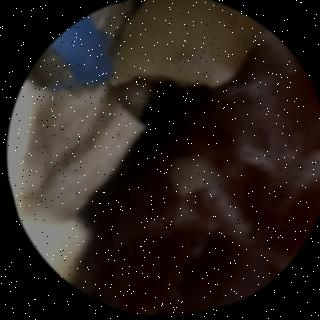fiber: (52, 17, 108, 82)
stone: (9, 0, 259, 279)
tissue: (77, 43, 320, 313)
